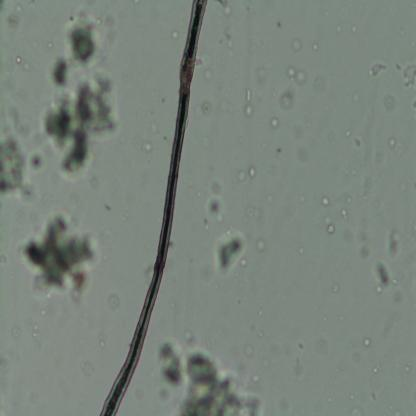Background material: (44, 13, 120, 183), (154, 339, 265, 416), (17, 208, 105, 301), (0, 131, 46, 203), (212, 231, 248, 284), (372, 253, 393, 298), (286, 60, 308, 90), (398, 61, 416, 96), (208, 184, 224, 220), (242, 85, 256, 120), (219, 30, 236, 58), (386, 228, 401, 258), (356, 231, 370, 261), (367, 58, 386, 80), (6, 3, 23, 26), (236, 165, 256, 182), (381, 92, 398, 112), (134, 137, 154, 153), (280, 91, 296, 111), (104, 294, 121, 312), (218, 0, 234, 19), (323, 215, 338, 235), (389, 138, 404, 156), (196, 101, 211, 119), (244, 205, 262, 220), (219, 99, 234, 114), (31, 324, 42, 343), (318, 195, 332, 209), (253, 237, 267, 251), (80, 361, 94, 375), (292, 38, 305, 53), (268, 116, 280, 130), (341, 208, 351, 222), (349, 405, 361, 416), (172, 29, 182, 41), (353, 136, 363, 148), (296, 246, 306, 258), (404, 361, 414, 373), (371, 364, 382, 374), (204, 70, 214, 81), (343, 194, 354, 204), (349, 23, 358, 35), (398, 180, 407, 192), (11, 326, 20, 338), (370, 391, 378, 403), (15, 56, 23, 68), (364, 337, 372, 349), (336, 24, 344, 35), (310, 43, 319, 52), (98, 339, 106, 349), (344, 128, 352, 138), (300, 194, 308, 203), (410, 98, 416, 110), (275, 147, 282, 157), (332, 284, 340, 292), (338, 314, 345, 322), (298, 342, 305, 350), (257, 330, 264, 338), (257, 309, 263, 318), (394, 409, 401, 416), (40, 309, 46, 316), (350, 393, 355, 401), (275, 21, 280, 28), (328, 395, 332, 403)
Cotton: (99, 0, 210, 415)
